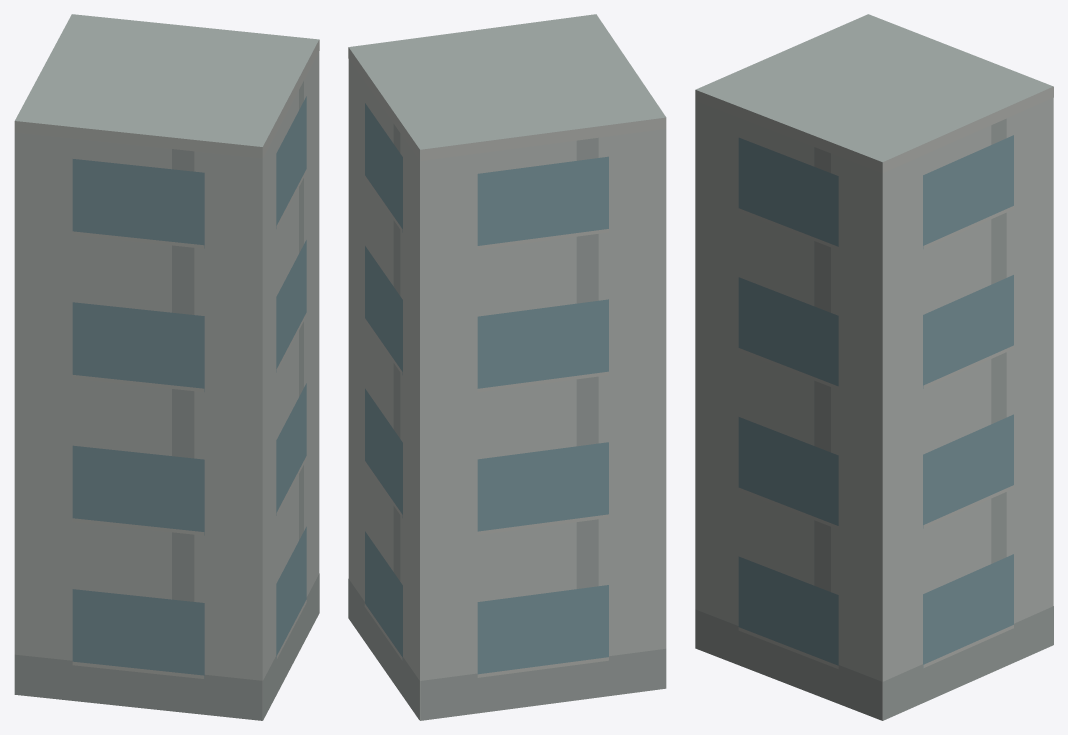
The model's file is survey-upis-32522153.glb.
3 renders of one model, left to right at view 1: azimuth 30°, elevation 25°; view 2: azimuth 150°, elevation 25°; view 3: azimuth 270°, elevation 25°, orthographic. The views are drawn at different scales.
Parts seen in each view (by area): view 1: survey-upis-32522153.tmp; view 2: survey-upis-32522153.tmp; view 3: survey-upis-32522153.tmp.
Part boxes in pixels (bbox=[...]): survey-upis-32522153.tmp: bbox=[14, 14, 319, 720]; survey-upis-32522153.tmp: bbox=[348, 14, 666, 720]; survey-upis-32522153.tmp: bbox=[695, 14, 1053, 720].
Size of the model in its own units: 6.95 by 12.2 by 7.1.
